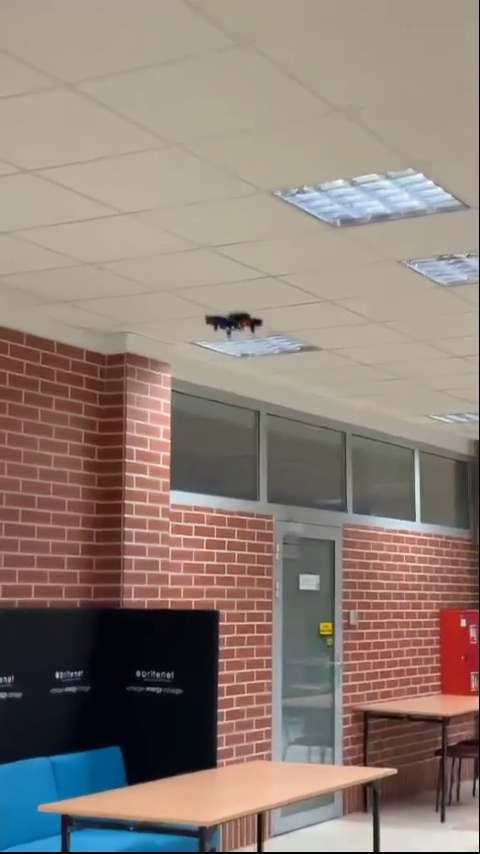drone: (205, 308, 266, 334)
